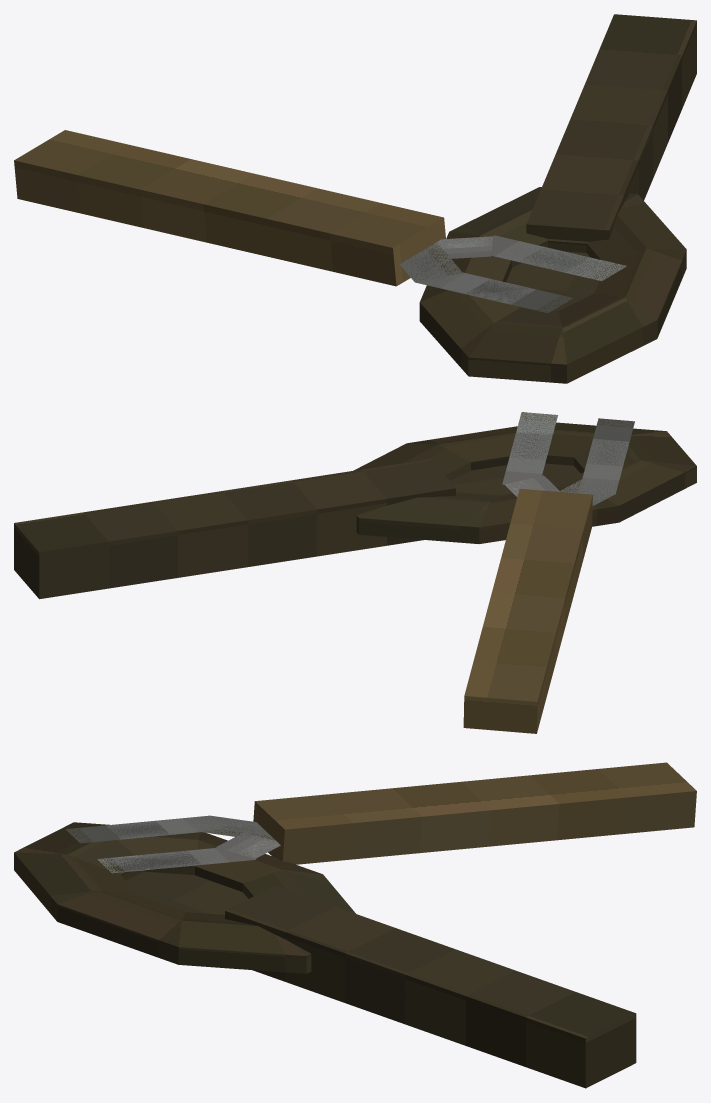
File: cutleryr_3.obj
3 renders of one model, top to bottom at view 1: azimuth 30°, elevation 25°; view 2: azimuth 150°, elevation 25°; view 3: azimuth 270°, elevation 25°, orthographic. The views are drawn at different scales.
Visible parts, largest first — view 1: cube, torus; view 2: cube, torus; view 3: cube, torus.
Boxes of the visible parts, x1=… form: cube: x1=14, y1=14, x2=696, y2=313; torus: x1=419, y1=187, x2=686, y2=383; cube: x1=14, y1=412, x2=634, y2=733; torus: x1=353, y1=422, x2=696, y2=543; cube: x1=66, y1=762, x2=696, y2=1088; torus: x1=14, y1=822, x2=355, y2=973.
Size of the model in its own units: 0.5484 by 0.0622 by 0.5439.
